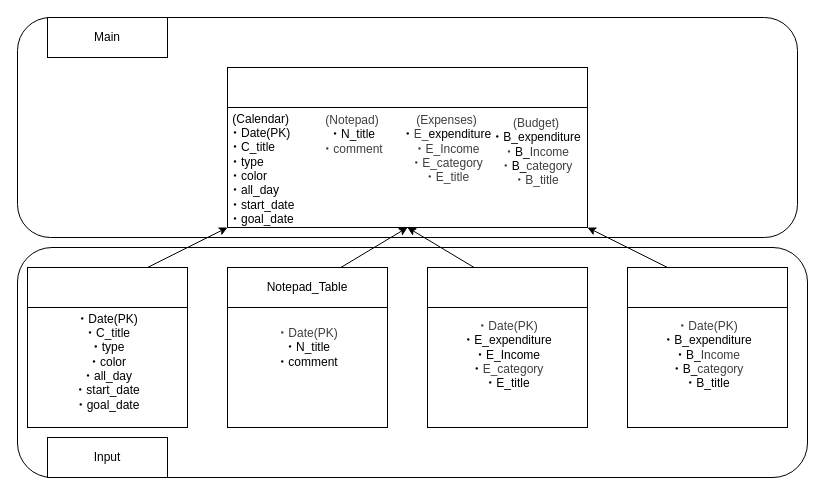
This 825x495 diagram has some shape labels left out. The centre of each missing label's shape, as x and y in pixels:
Budget_Table: (x=707, y=287)
Calendar_Table: (x=107, y=287)
Expenses_Calendar_Table: (x=407, y=87)
Expenses_Table: (x=507, y=287)
